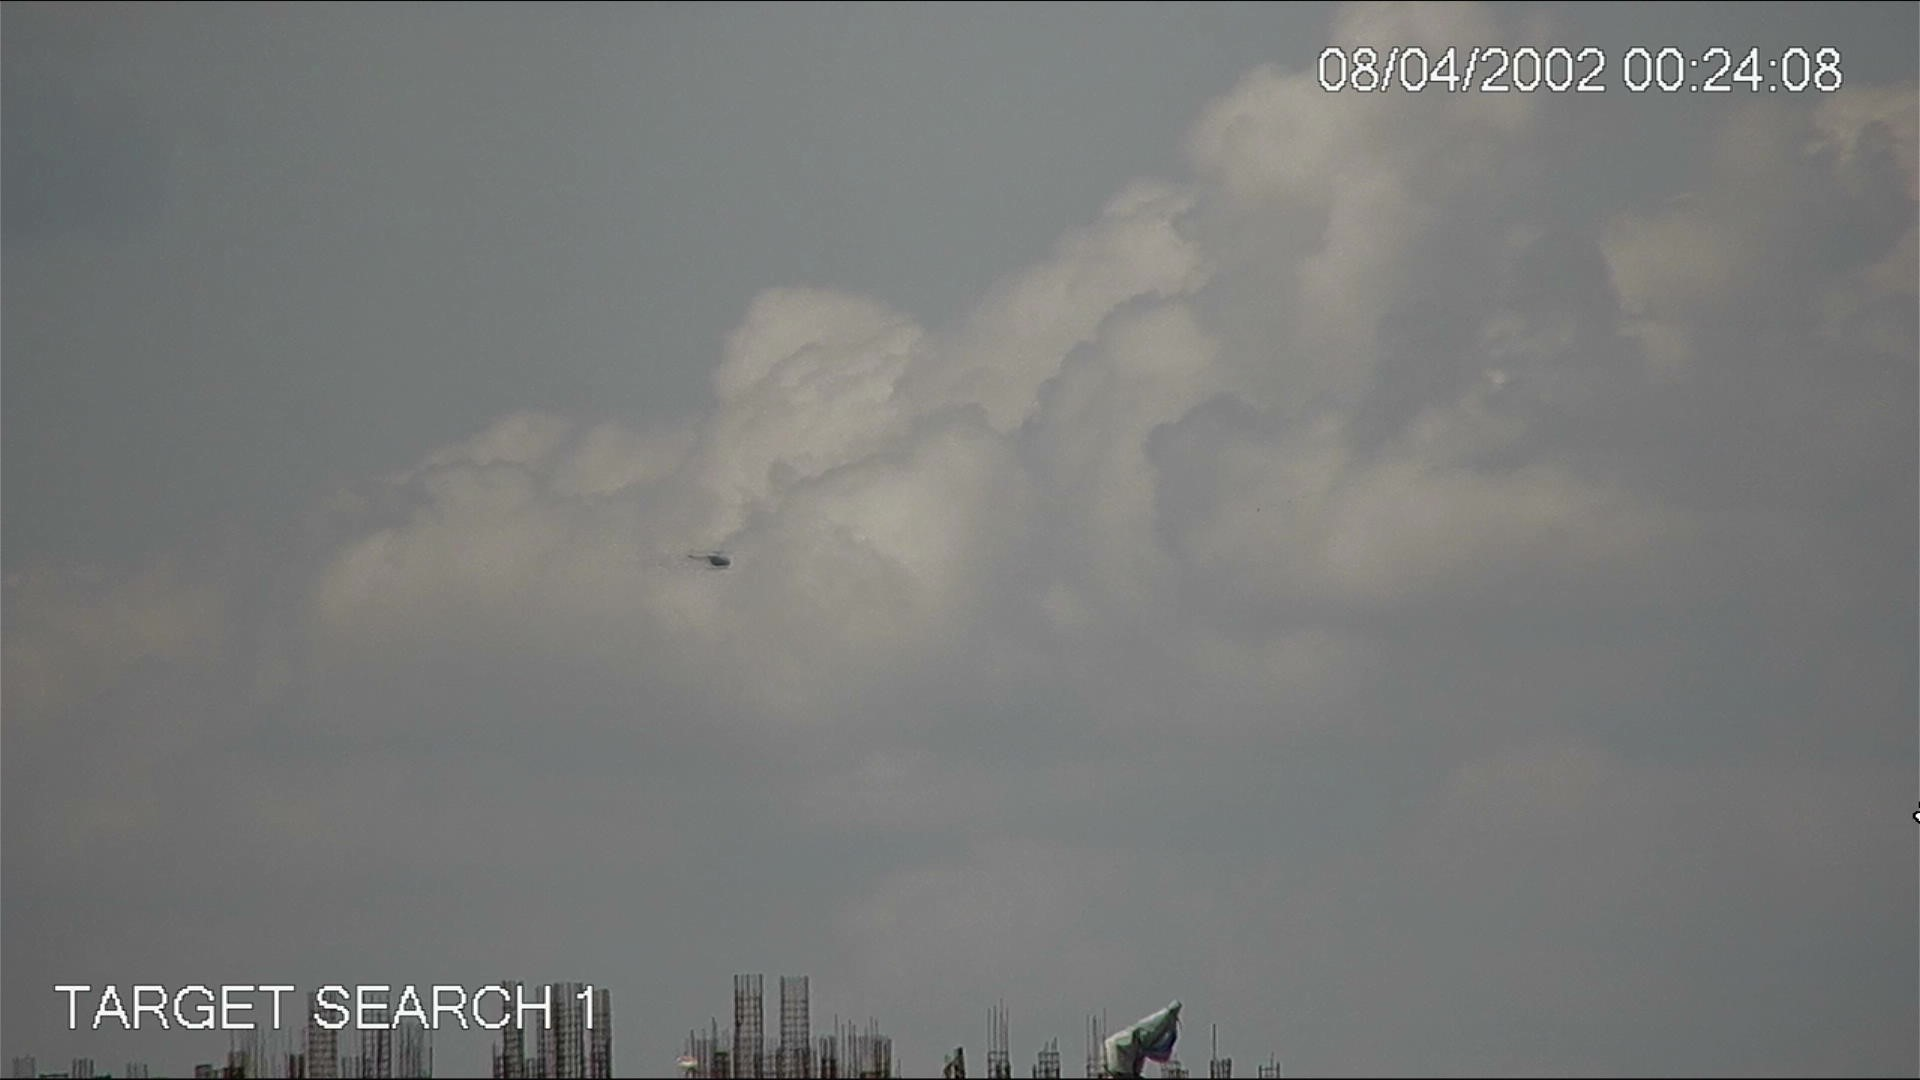SU_30: (680, 546, 737, 578)
